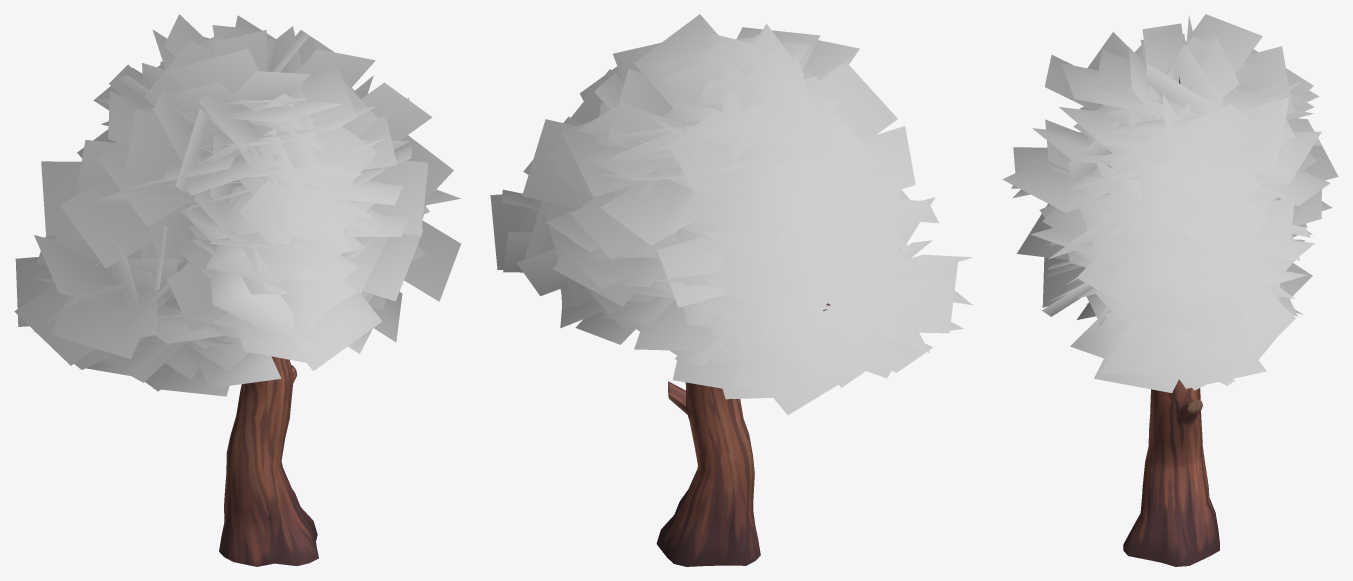
The model's file is Tree_01.fbx.
3 views of the same model, side by side, from view 1: azimuth 30°, elevation 25°; view 2: azimuth 150°, elevation 25°; view 3: azimuth 270°, elevation 25° (orthographic). The views are drawn at different scales.
Visible parts, largest first — view 1: Leaf_01, Tree_006; view 2: Leaf_01, Tree_006; view 3: Leaf_01, Tree_006.
Part boxes in pixels (x1=…): Leaf_01: x1=14, y1=14, x2=460, y2=396; Tree_006: x1=219, y1=356, x2=318, y2=566; Leaf_01: x1=490, y1=14, x2=972, y2=414; Tree_006: x1=656, y1=303, x2=830, y2=566; Leaf_01: x1=1002, y1=14, x2=1338, y2=392; Tree_006: x1=1123, y1=77, x2=1219, y2=566.
Bounding box in the file's own units: 581 × 661 × 405.
